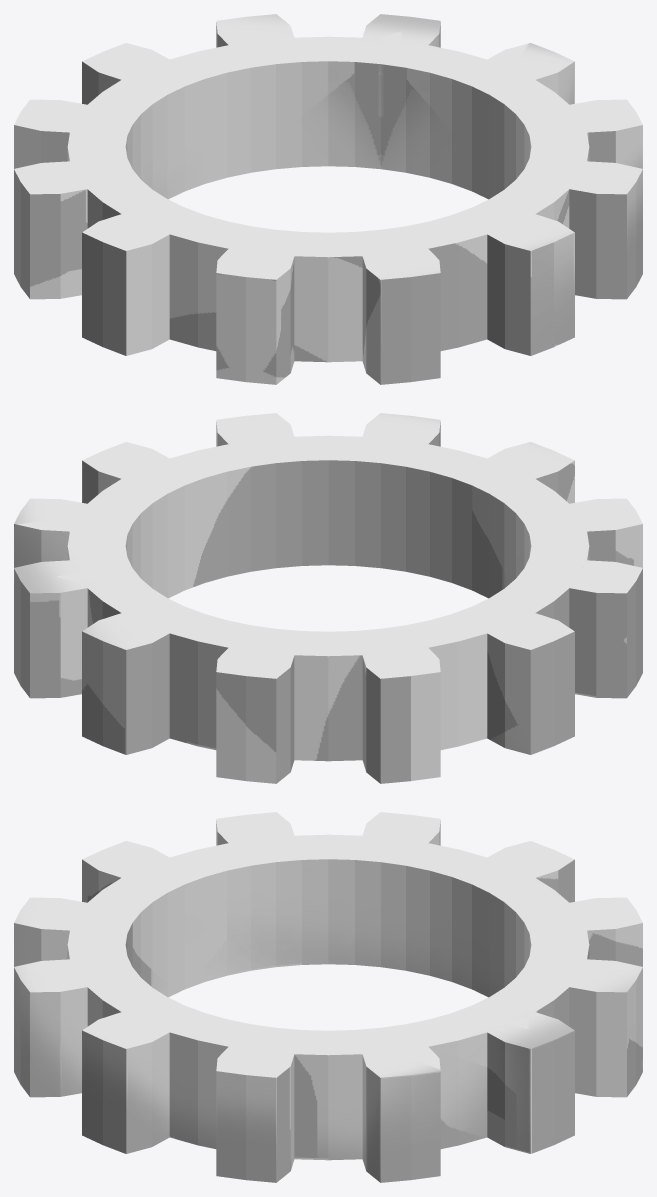
Rendered from Gear.fbx.
3 views of the same model, one above another, from view 1: azimuth 30°, elevation 25°; view 2: azimuth 150°, elevation 25°; view 3: azimuth 270°, elevation 25° (orthographic).
Visible parts, largest first — view 1: Gear; view 2: Gear; view 3: Gear.
Part boxes in pixels (x1,y1,x2,y2): Gear: (14, 14, 642, 384); Gear: (14, 413, 642, 783); Gear: (14, 812, 642, 1182).
Bounding box in the file's own units: 82.91 × 15.28 × 82.91.
